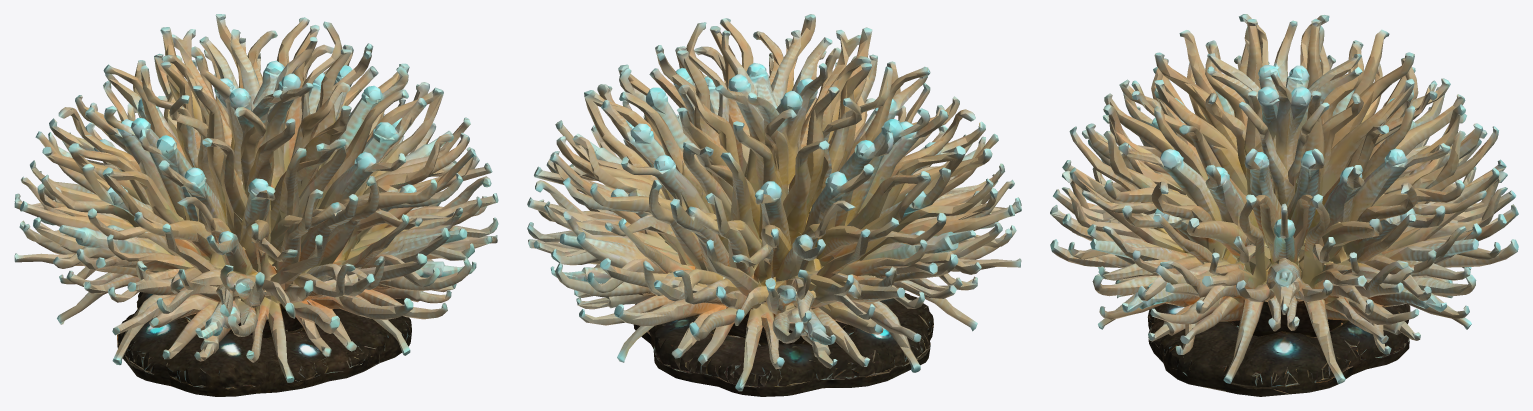
The model's file is bloom_anemone.glb.
The picture shows the model from 3 angles, left to right: view 1: azimuth 30°, elevation 25°; view 2: azimuth 150°, elevation 25°; view 3: azimuth 270°, elevation 25°; orthographic projection. The views are drawn at different scales.
Size of the model in its own units: 1.88 by 1.28 by 1.9.
Materials: 1 (1 with a texture image).
